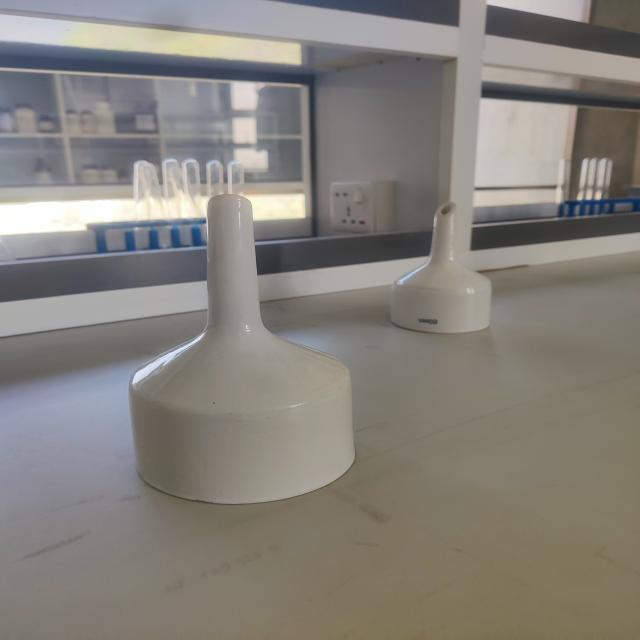Buchner_Funnel: (97, 178, 366, 526), (374, 182, 517, 352)
